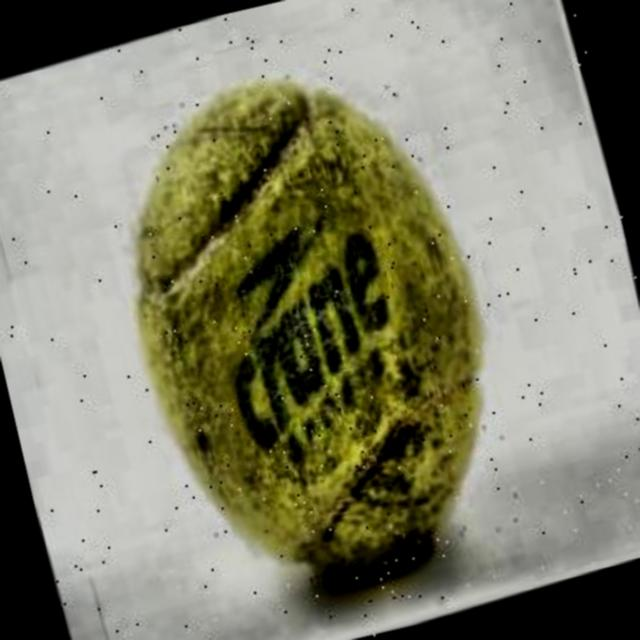tennis-ball: (68, 30, 543, 622)
